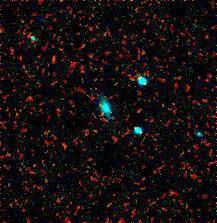star: (22, 12, 52, 42)
